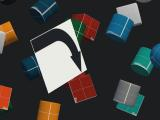Right: (30, 18, 87, 94)
